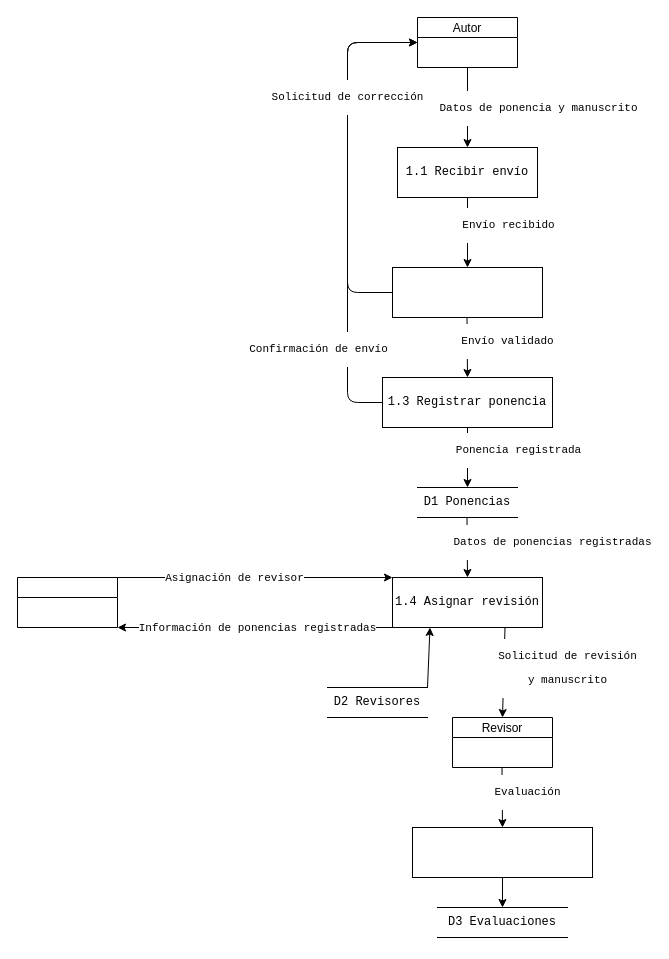
The diagram is 669 pixels wide and 959 high, and some of its shapes have lost their labels. Here are the shapes that lost their labels. From the top down, the centre of each, then its label:
the point at 467,292: 1.2 Validar envío
the point at 67,602: Comite
the point at 502,852: 1.5 Registrar evaluación
